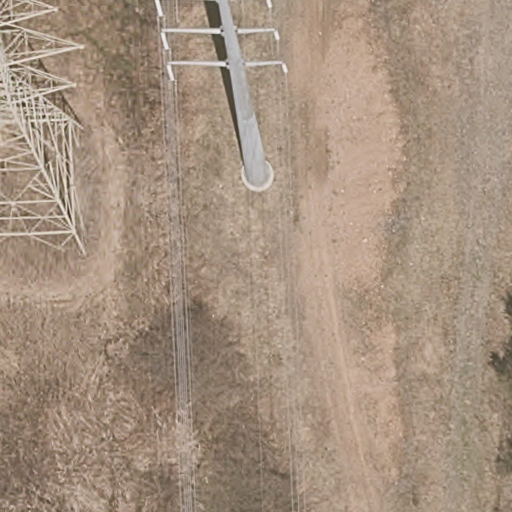TT: (153, 1, 289, 193), (1, 1, 88, 257)
